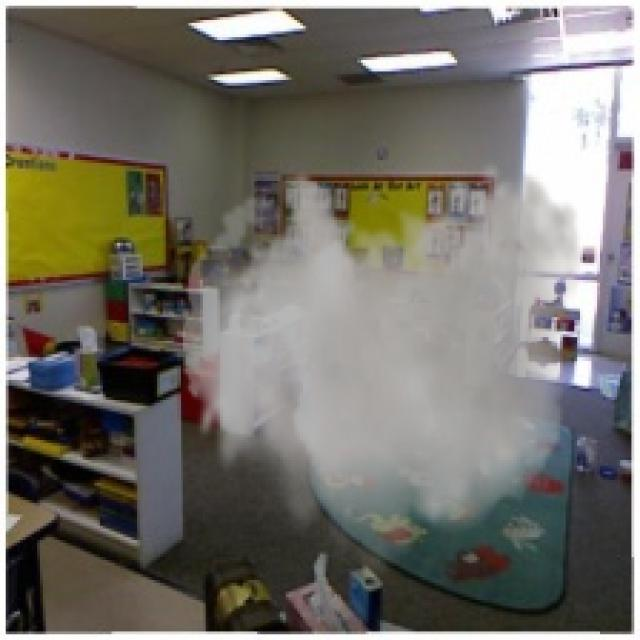smoke: (183, 160, 583, 586)
